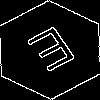E: (25, 25, 84, 81)
